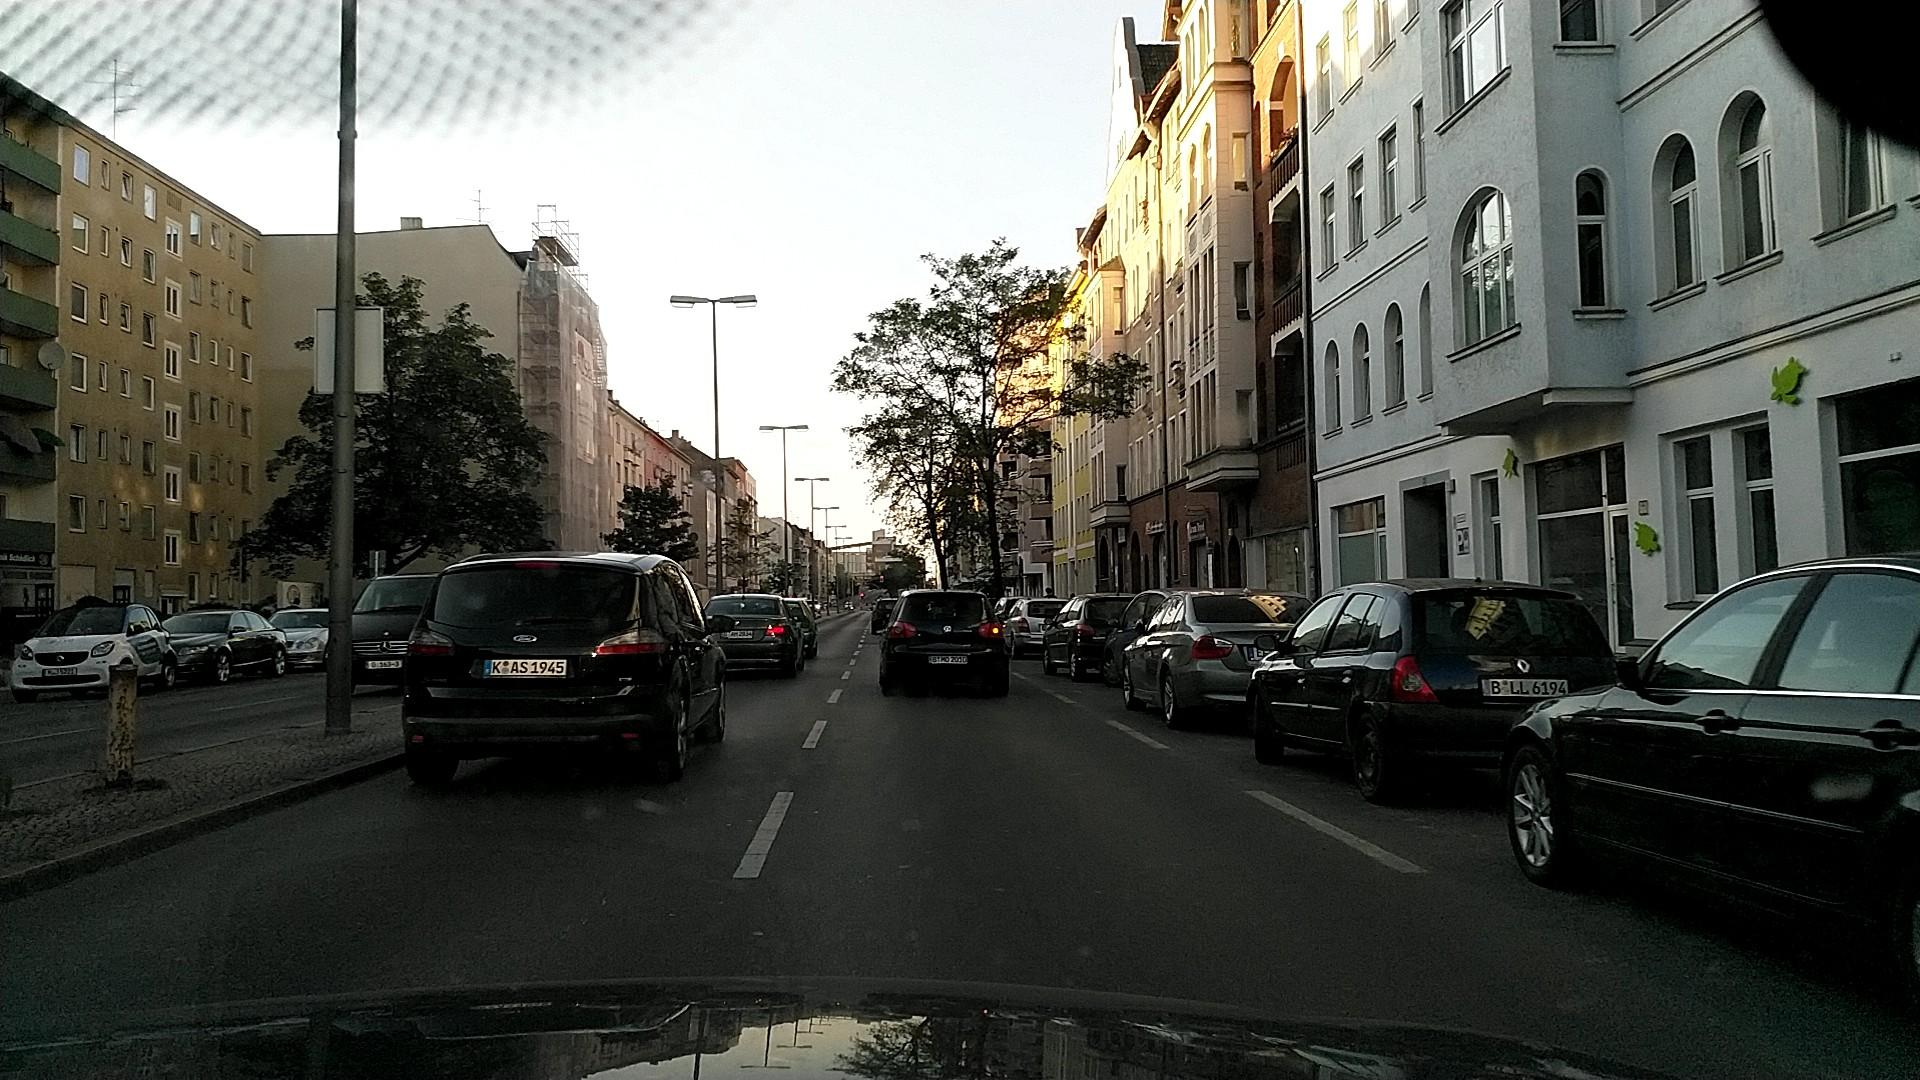Vehicle registration plate: (1480, 676, 1569, 699), (483, 660, 566, 676), (363, 660, 402, 669), (928, 655, 968, 665), (42, 667, 77, 677), (720, 630, 753, 640)
